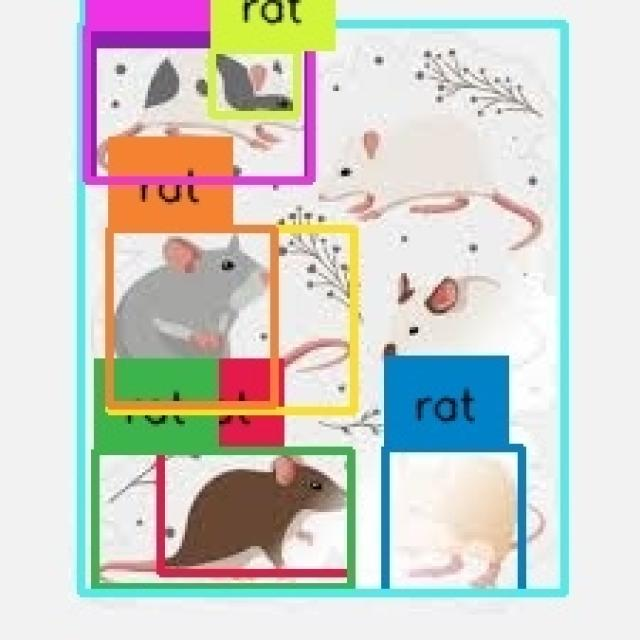rat: (81, 24, 565, 593), (111, 228, 353, 410), (94, 451, 353, 587), (87, 28, 311, 182), (92, 44, 308, 181), (111, 229, 273, 405), (162, 451, 353, 573), (385, 449, 522, 592), (210, 50, 296, 115)
